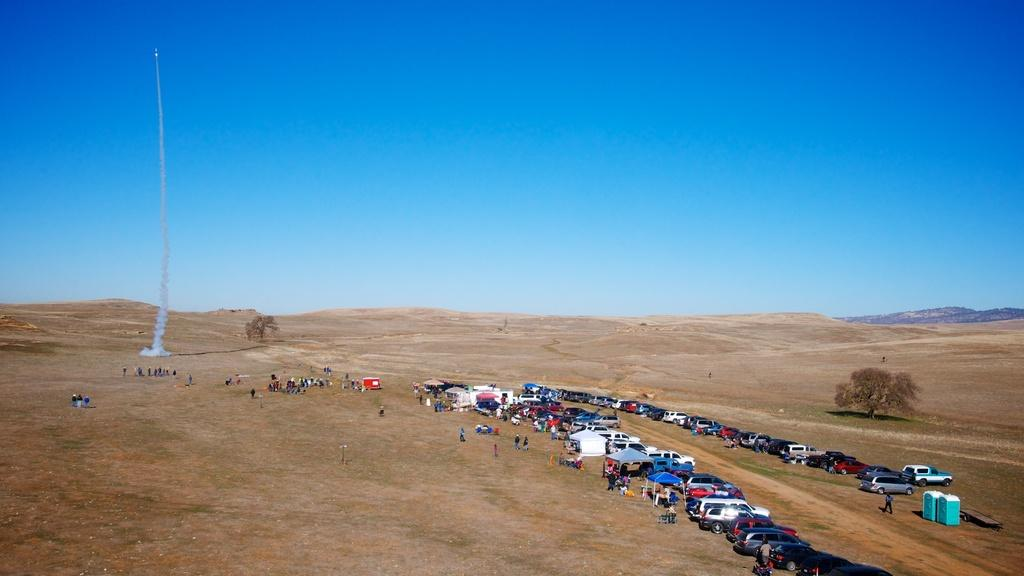Missile: (154, 46, 164, 62)
